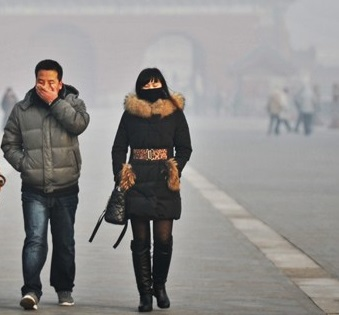person: (2, 55, 92, 312), (104, 66, 193, 314), (294, 78, 321, 134), (274, 81, 293, 136), (2, 87, 19, 129), (268, 91, 283, 136)
